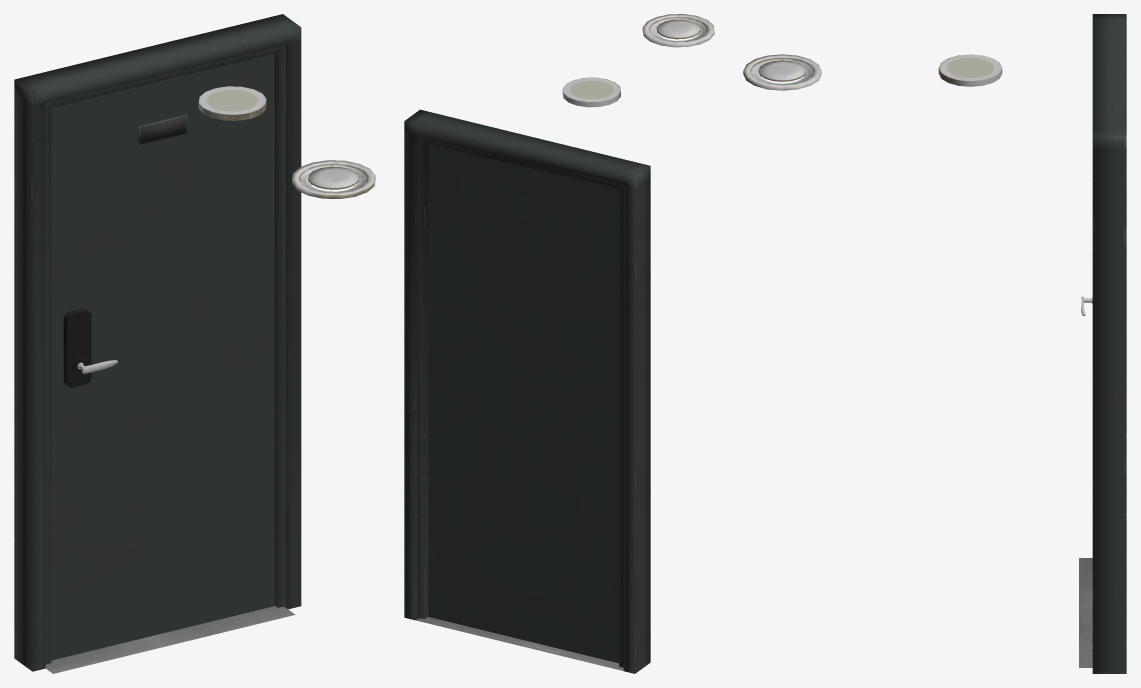
The model's file is Door_Dormitory.fbx.
The picture shows the model from 3 angles, left to right: view 1: azimuth 30°, elevation 25°; view 2: azimuth 150°, elevation 25°; view 3: azimuth 270°, elevation 25°; orthographic projection. The views are drawn at different scales.
Parts seen in each view (by area): view 1: DoorLocked, DoorFrame, airHole_low, lamp01_low; view 2: DoorLocked, DoorFrame, airHole_low, lamp01_low; view 3: DoorFrame, airHole_low, lamp01_low.
Boxes of the visible parts, <box> form: DoorLocked: <box>51,53,274,660</box>; DoorFrame: <box>14,14,301,673</box>; airHole_low: <box>292,160,375,198</box>; lamp01_low: <box>198,86,266,120</box>; DoorLocked: <box>428,144,618,663</box>; DoorFrame: <box>404,109,650,673</box>; airHole_low: <box>642,14,714,47</box>; lamp01_low: <box>562,77,620,107</box>; DoorFrame: <box>1079,14,1126,673</box>; airHole_low: <box>743,54,821,90</box>; lamp01_low: <box>938,54,1002,86</box>.
Size of the model in its own units: 102 by 213 by 136.
